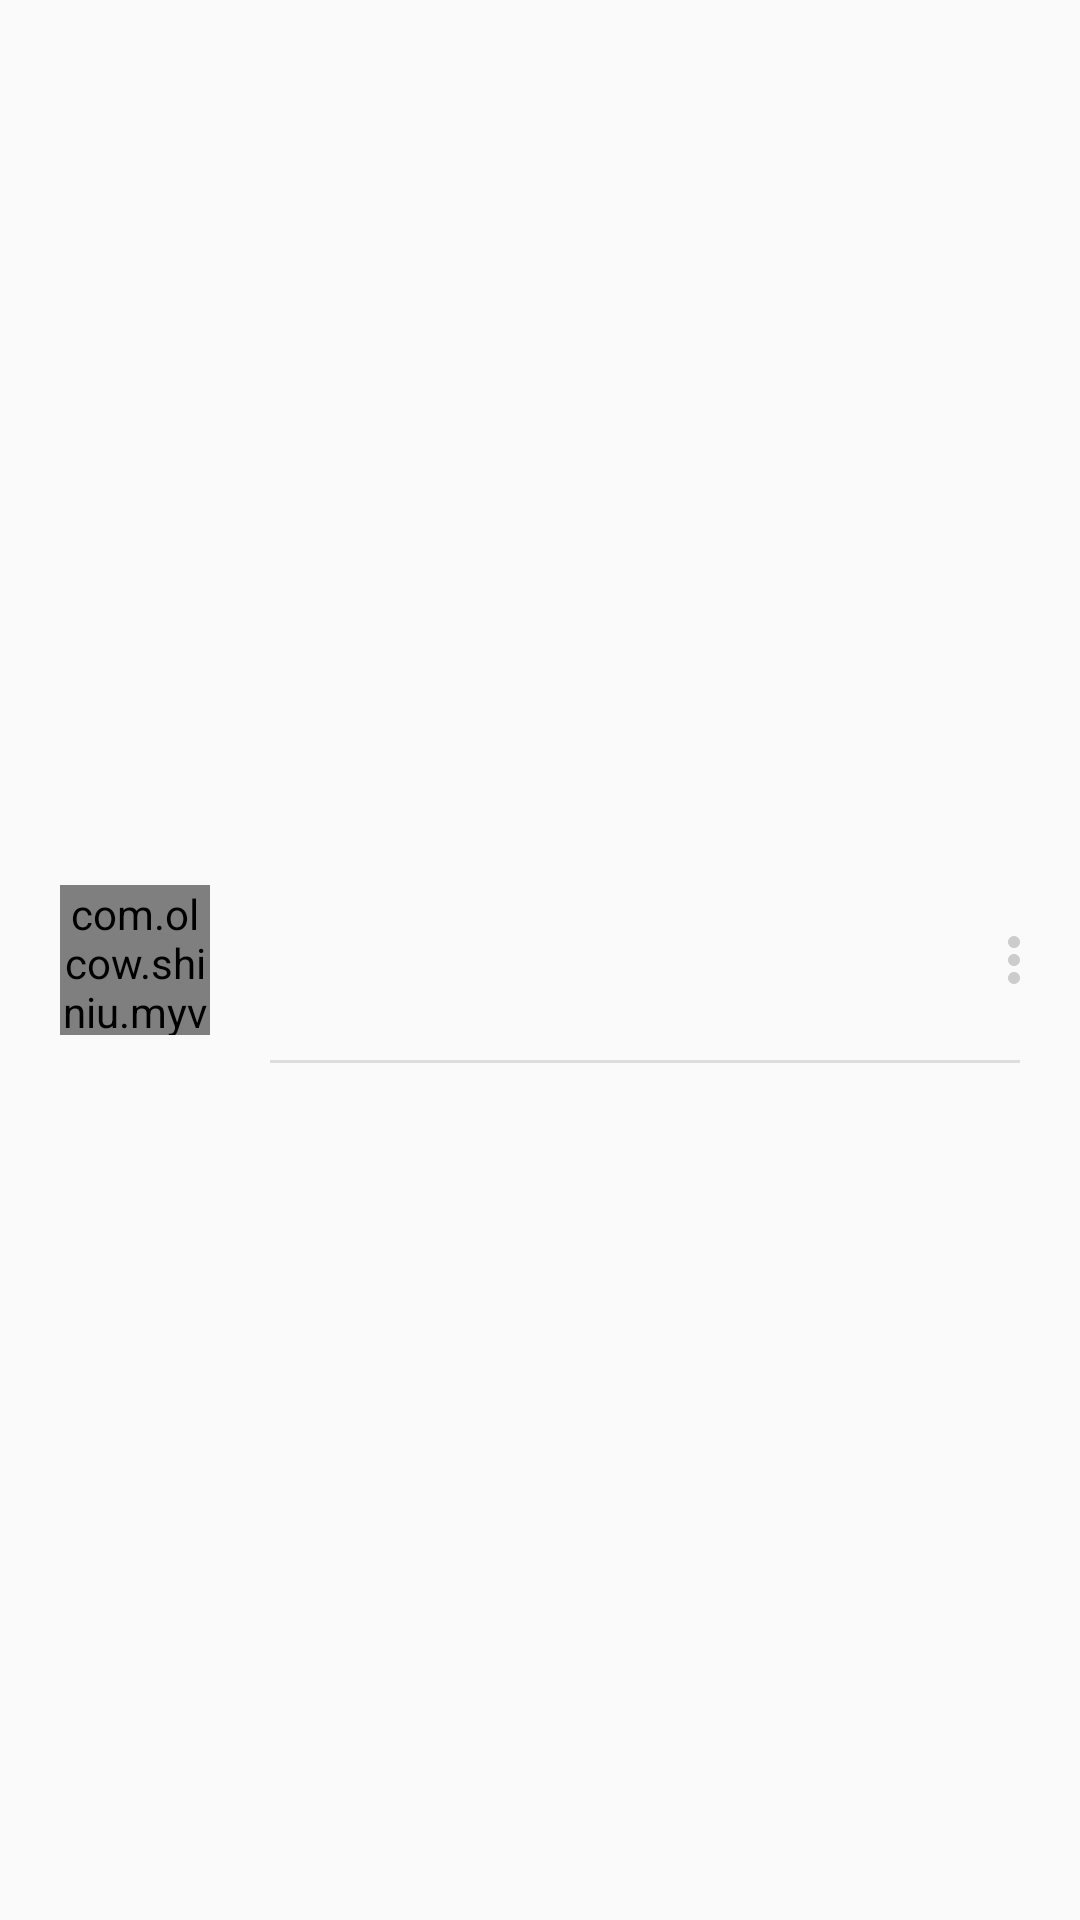

Locate icon controls on the screen. Image size 1080 × 1920, boxes as bbox=[x1, y1, x2, y2].
more vert: bbox=[1008, 936, 1020, 984]
